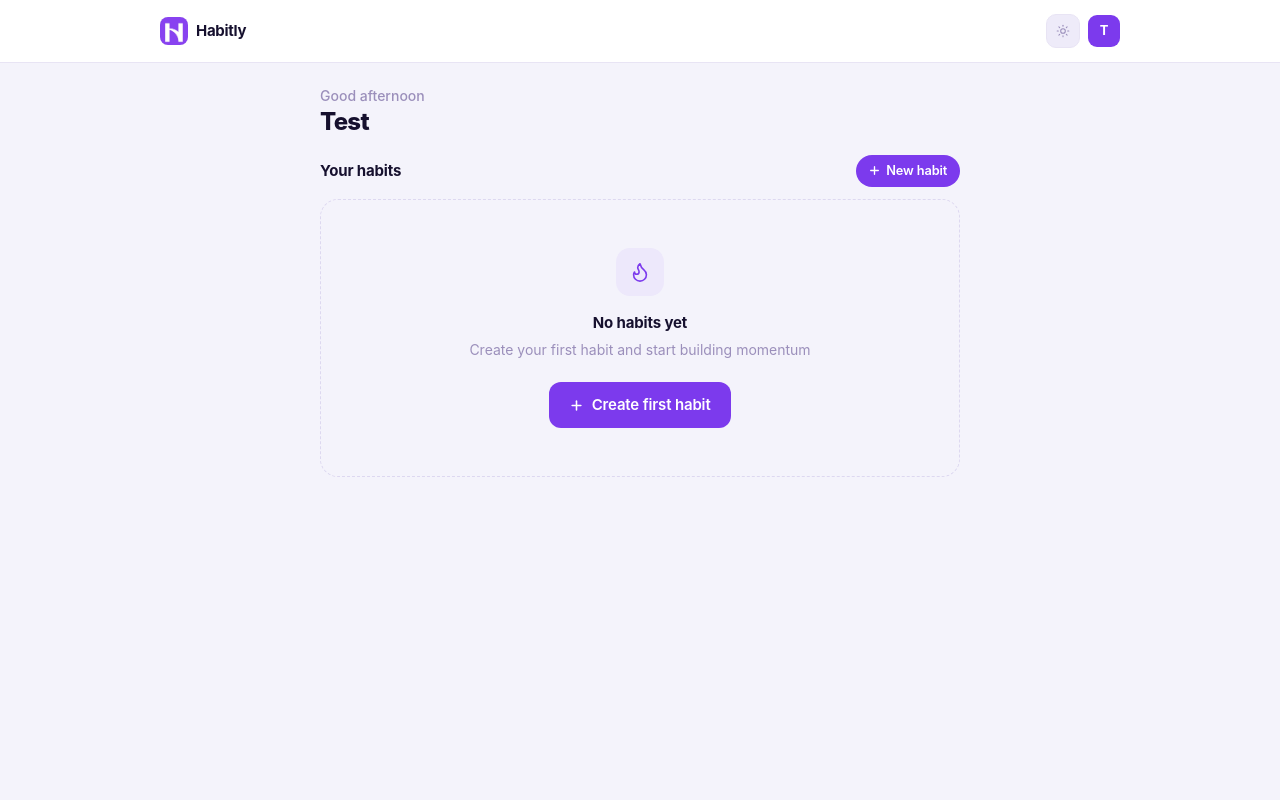
Test: habit form › creates a new habit and renders it in the list
The image size is (1280, 800).
Click the button with test id "create-habit-button" at (908, 171), box [856,155,960,186]
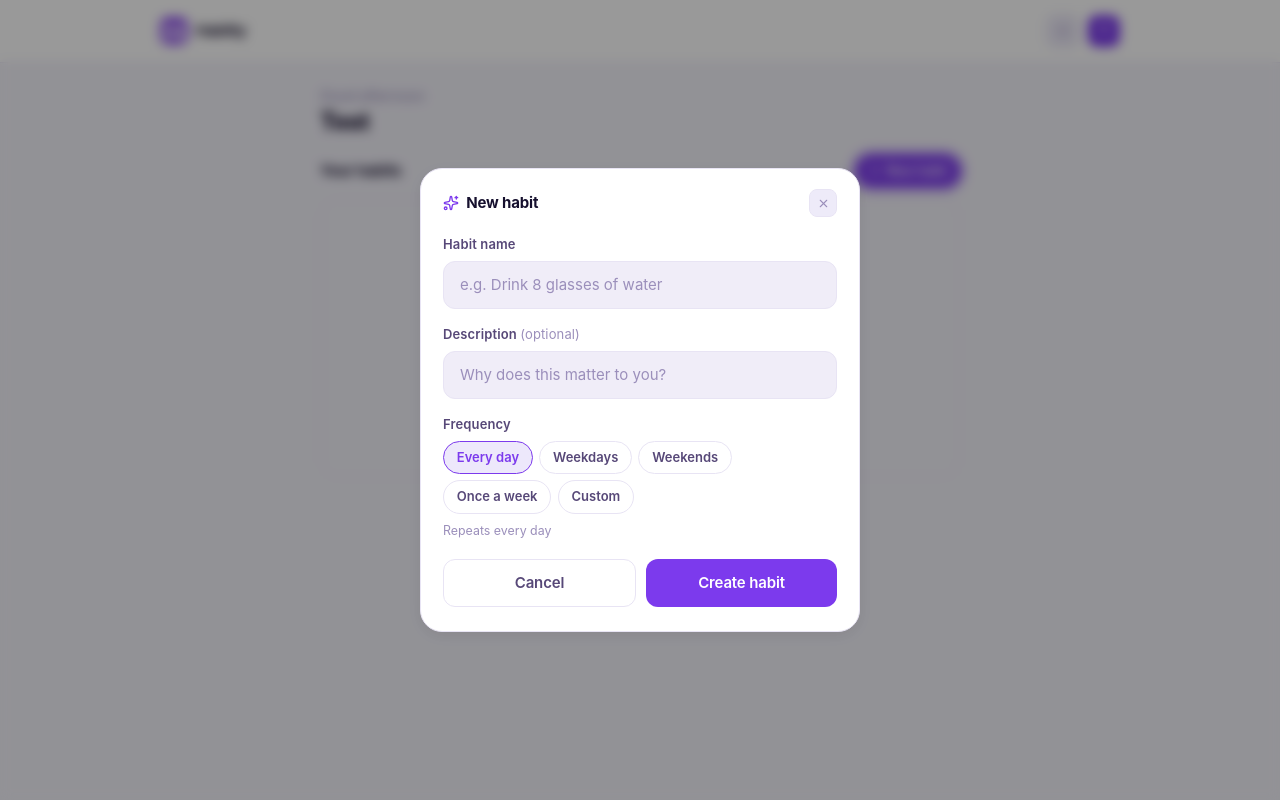
Type "Morning Run" into the field with test id "habit-name-input" at (640, 285), box [443,260,837,309]
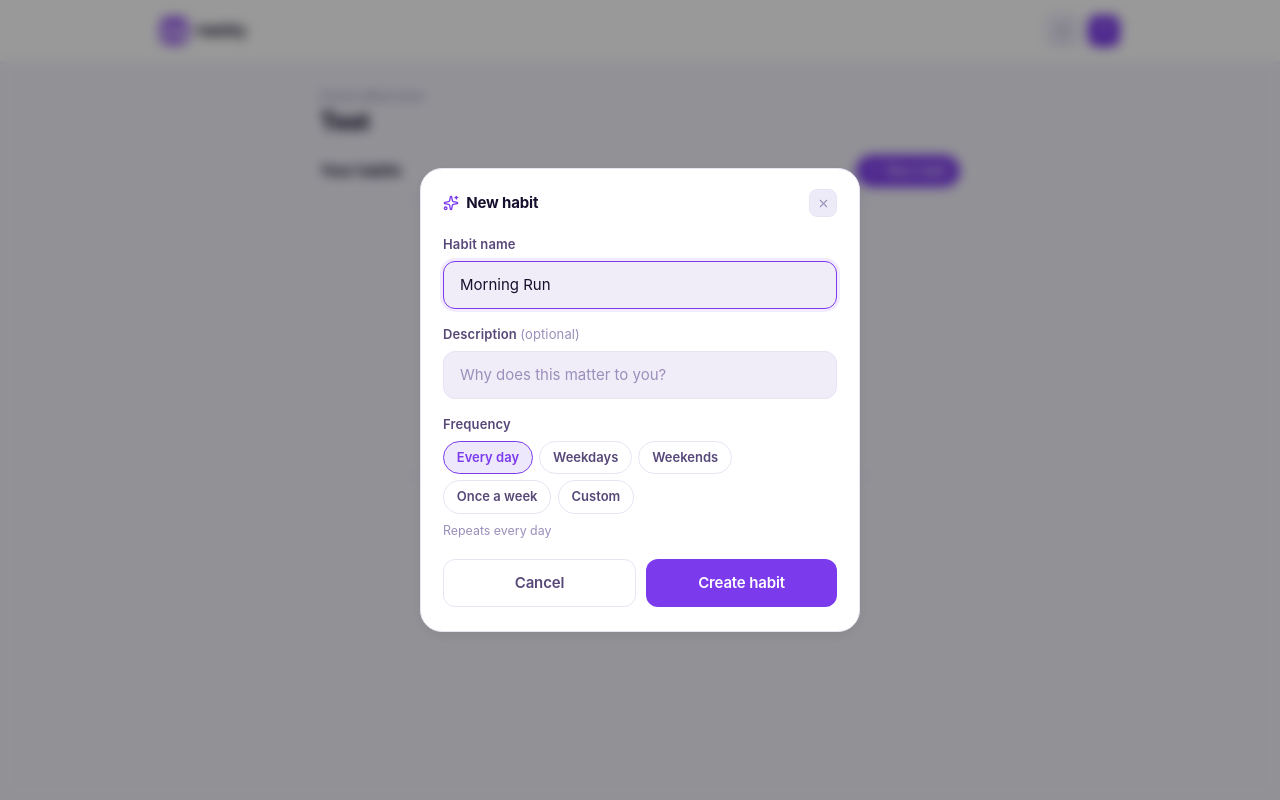
Type "Run 5k every morning" into the field with test id "habit-description-input" at (640, 375), box [443,350,837,399]
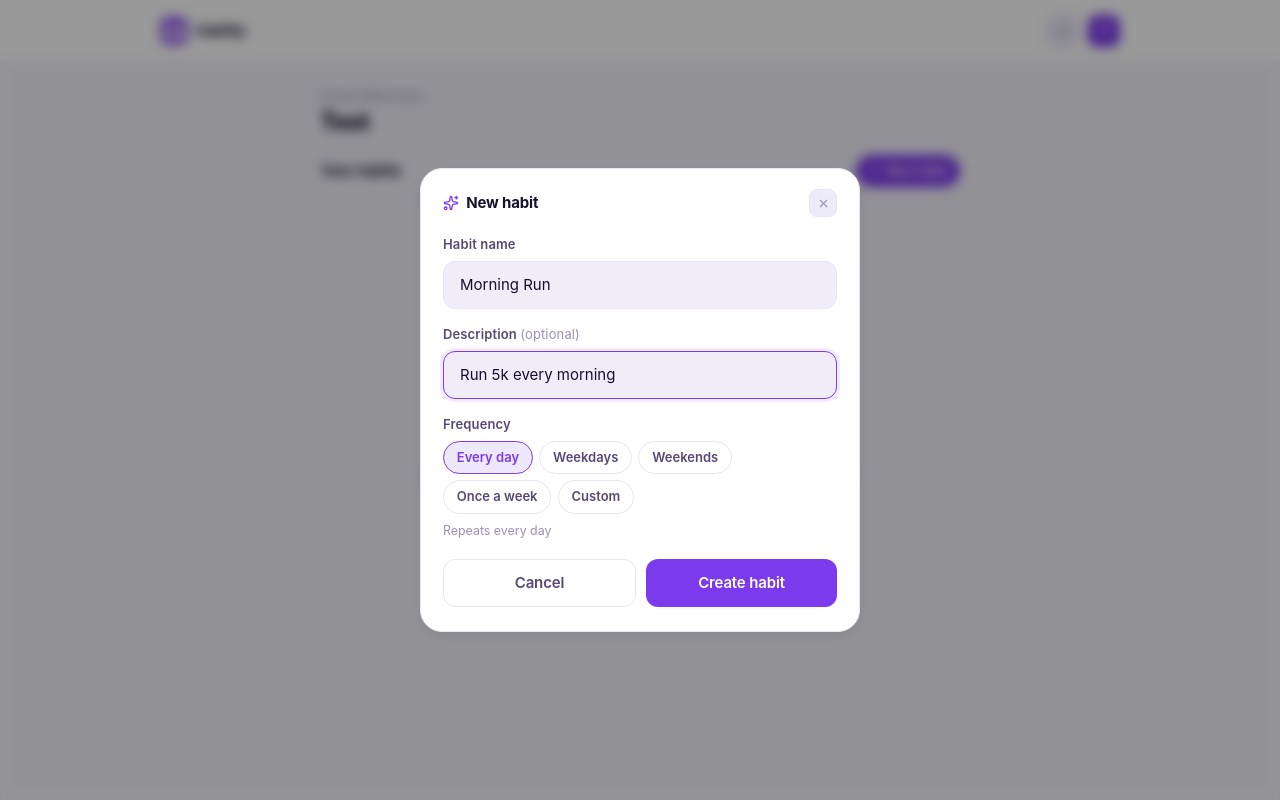
Click the button with test id "habit-save-button" at (742, 583), box [646,558,837,607]
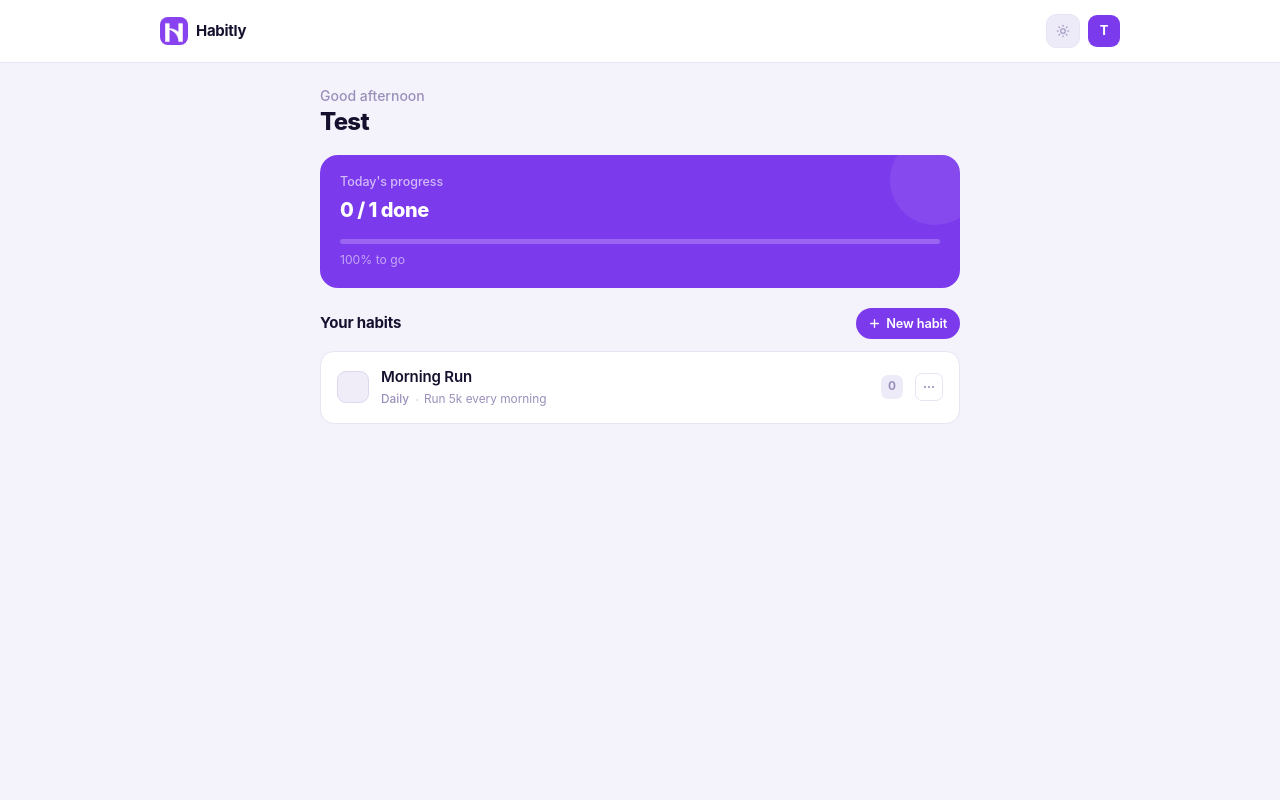
Now the element with test id "habit-card-morning-run" is shown, box [320,351,960,424]
